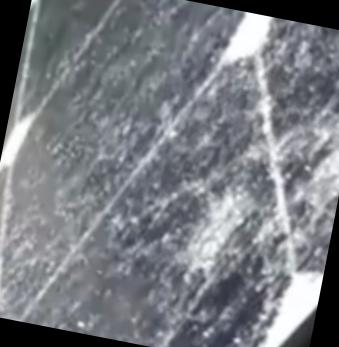Crack: (168, 170, 259, 296), (275, 92, 338, 223)
